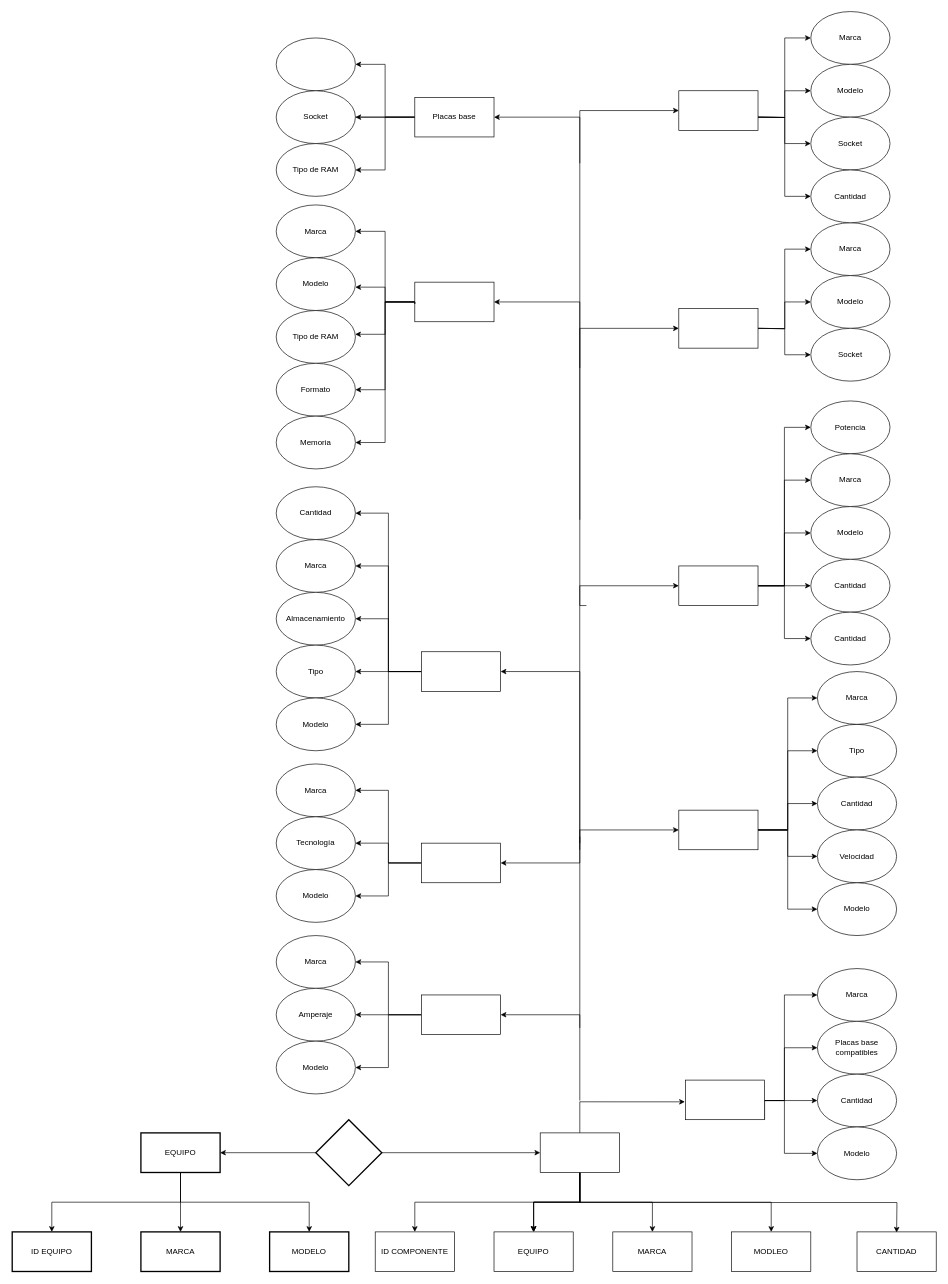
Some shapes in this 948 by 1284 pixel diagram are drawn without their labels. The box of each missing label's shape, as (x1, y1, x2, y2) in pixels:
Cajas: (685, 1079, 765, 1120)
COMPONENTES: (540, 1132, 619, 1172)
CONTIENE: (315, 1119, 382, 1186)
Disco duro: (421, 651, 501, 691)
Disipador: (678, 308, 758, 348)
Factor de forma: (276, 37, 355, 91)
Fuentes de alimentación: (678, 565, 758, 606)
Lectores de disco: (421, 842, 501, 883)
Memoria RAM: (414, 281, 494, 322)
Procesador: (678, 90, 758, 130)
Tarjeta de red: (678, 809, 758, 850)
Ventiladores: (421, 994, 501, 1035)
